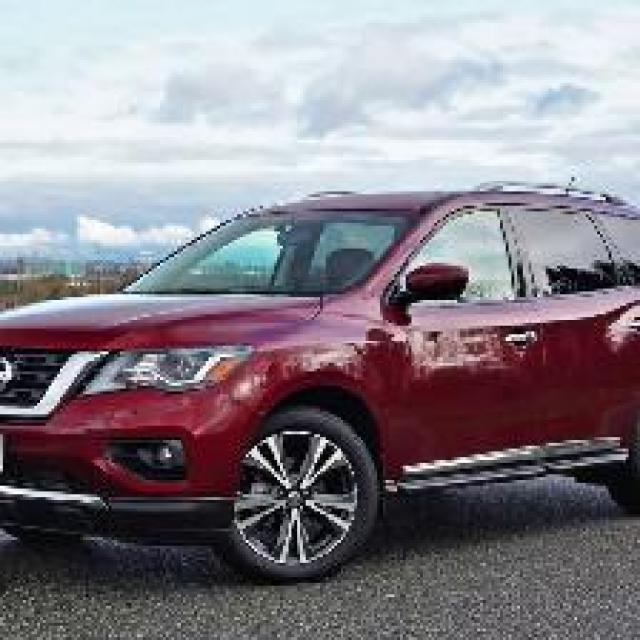damaged: (83, 379, 274, 452)
